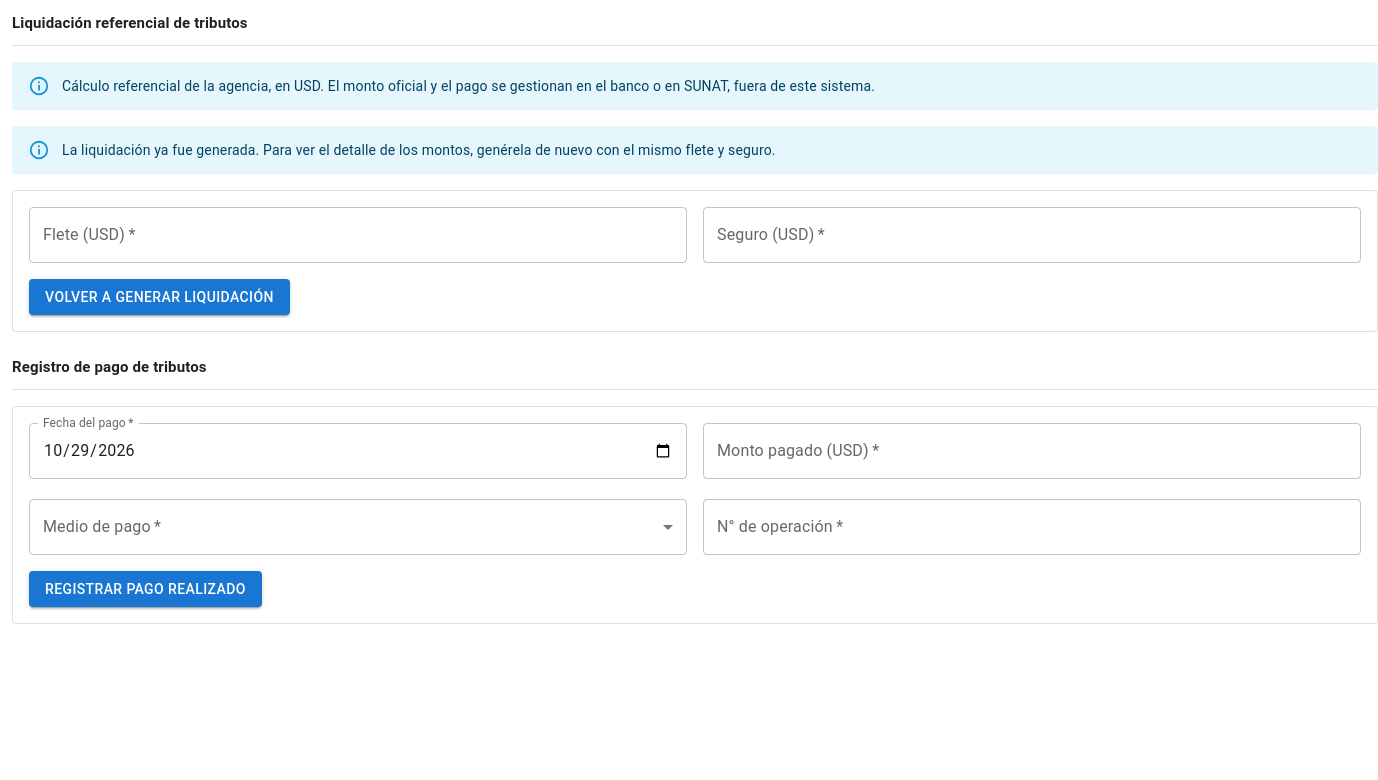
Test: LiquidacionDespacho (HU-08) › no envía el pago si faltan datos y marca cada campo
Click the button "Registrar pago realizado" at (145, 589), box top-left (29, 570), bottom-right (262, 607)
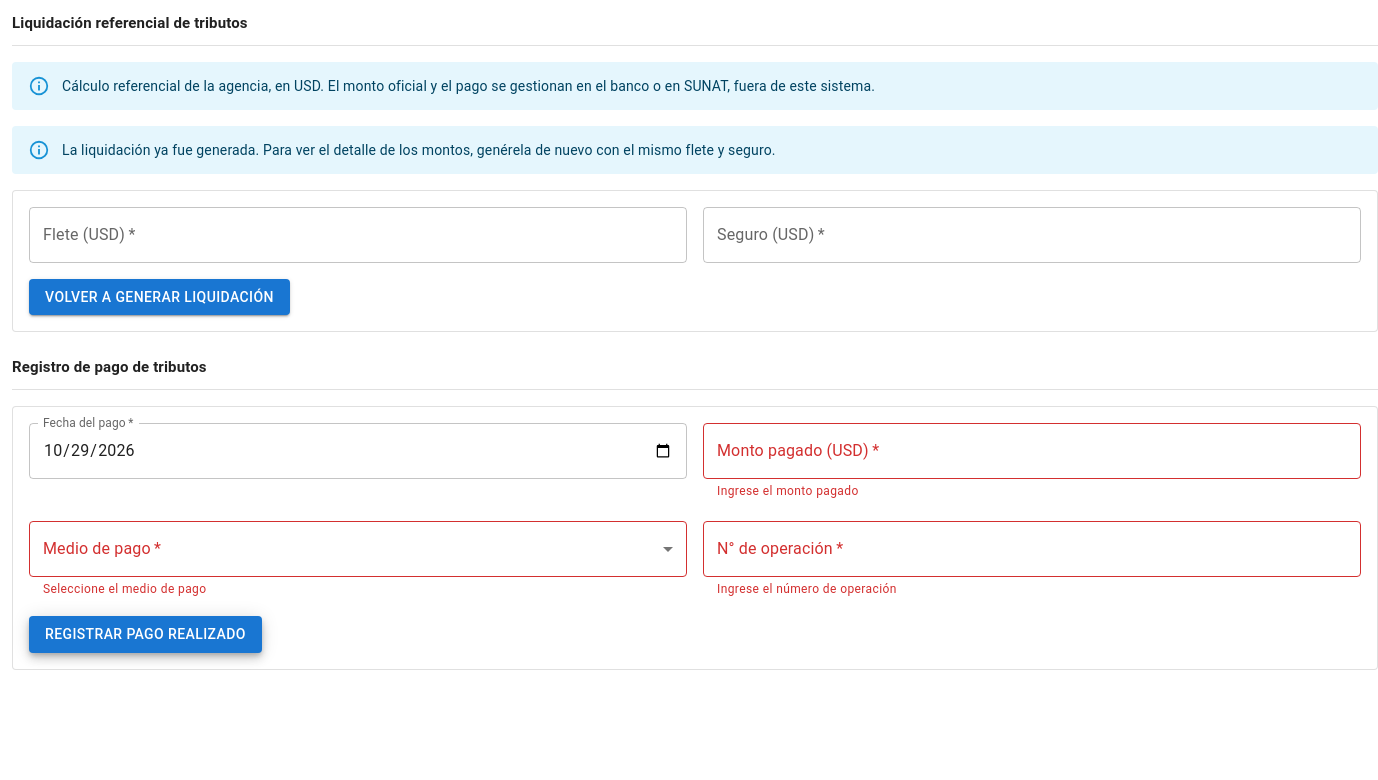
Check: the text "Ingrese el monto pagado" is shown, box top-left (717, 484), bottom-right (859, 498)
Check: the text "Seleccione el medio de pago" is shown, box top-left (43, 582), bottom-right (206, 596)
Check: the text "Ingrese el número de operación" is shown, box top-left (717, 582), bottom-right (897, 596)
